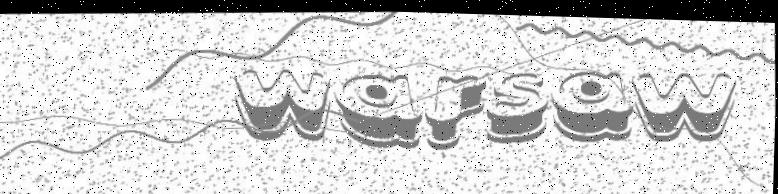a: (331, 67, 426, 146), (544, 63, 637, 142)
r: (422, 67, 489, 146)
s: (482, 62, 553, 142)
w: (627, 61, 742, 142), (225, 60, 337, 142)
